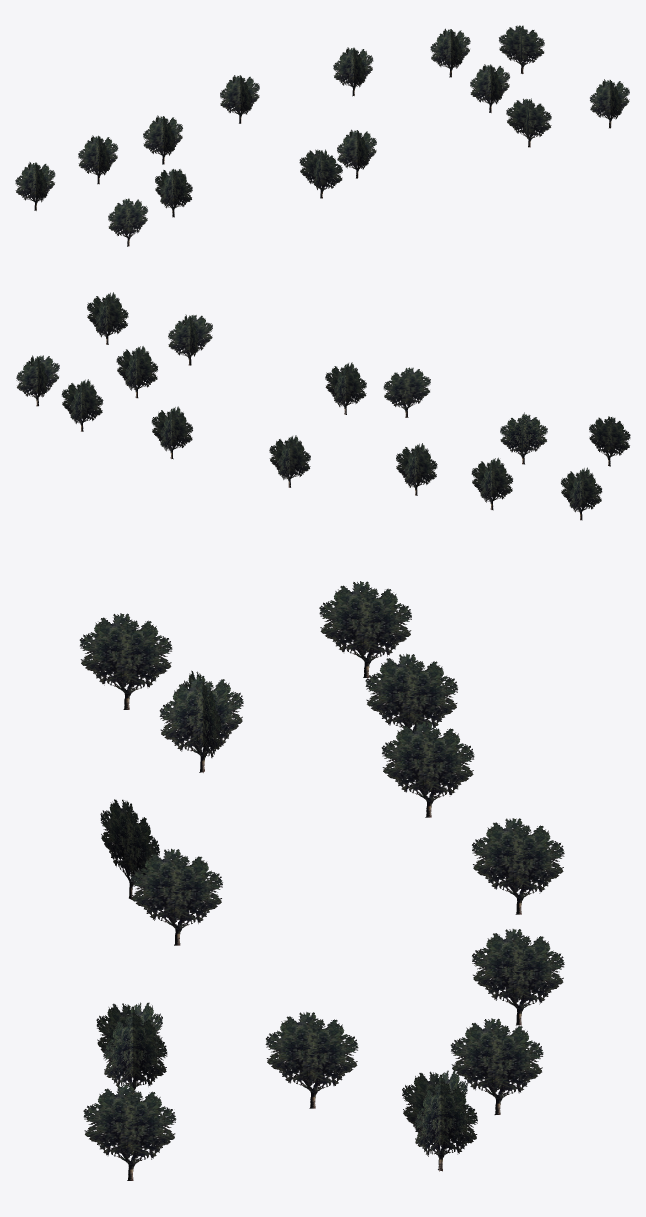
Rendered from planeTree16.FBX.
3 renders of one model, top to bottom at view 1: azimuth 30°, elevation 25°; view 2: azimuth 150°, elevation 25°; view 3: azimuth 270°, elevation 25°, orthographic. The views are drawn at different scales.
Parts seen in each view (by area): view 1: planeTree16; view 2: planeTree16; view 3: planeTree16.
Boxes of the visible parts, bbox=[...] form: planeTree16: bbox=[15, 25, 629, 246]; planeTree16: bbox=[16, 292, 630, 520]; planeTree16: bbox=[79, 581, 564, 1180].
Bounding box in the file's own units: 5240 × 441 × 2000.
Materials: 1 (1 with a texture image).
